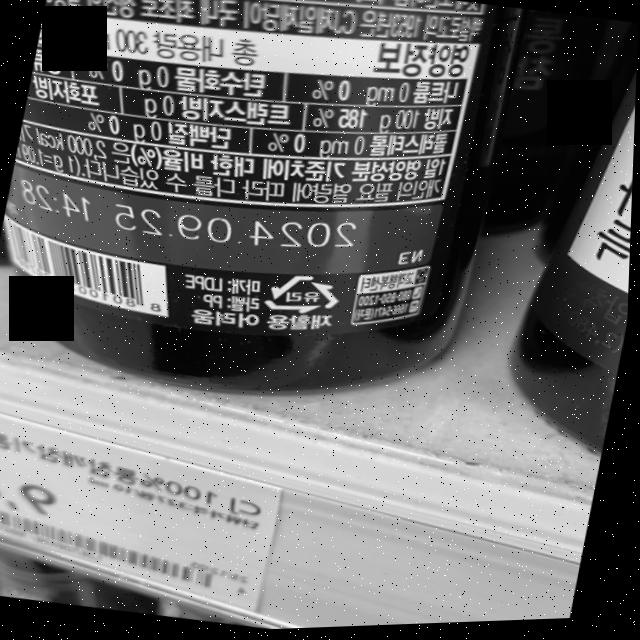Glass: (264, 270, 349, 326)
